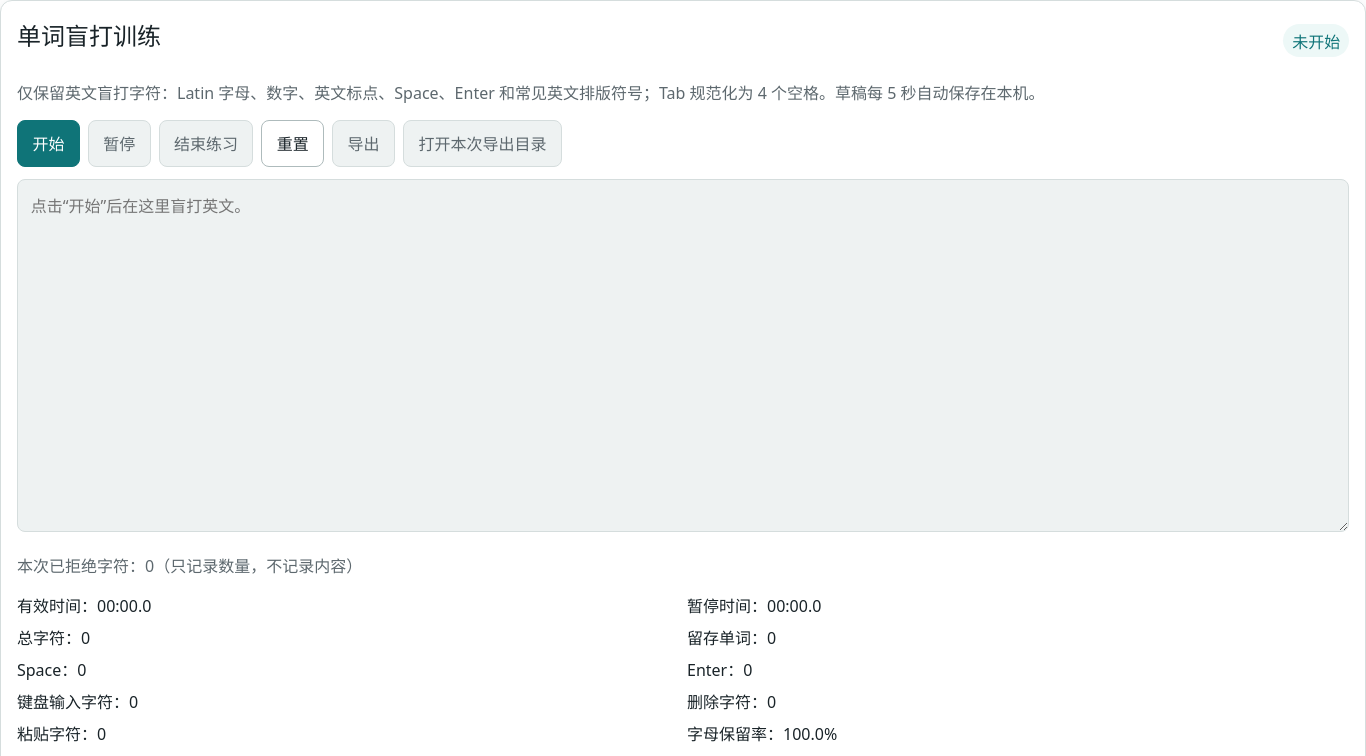
Scenario: typing practice UI › preserves native history input semantics without inflating typing or deletion counters
This screenshot has width=1366, height=756.
Click the button "开始": (48, 143) [17, 120, 80, 167]
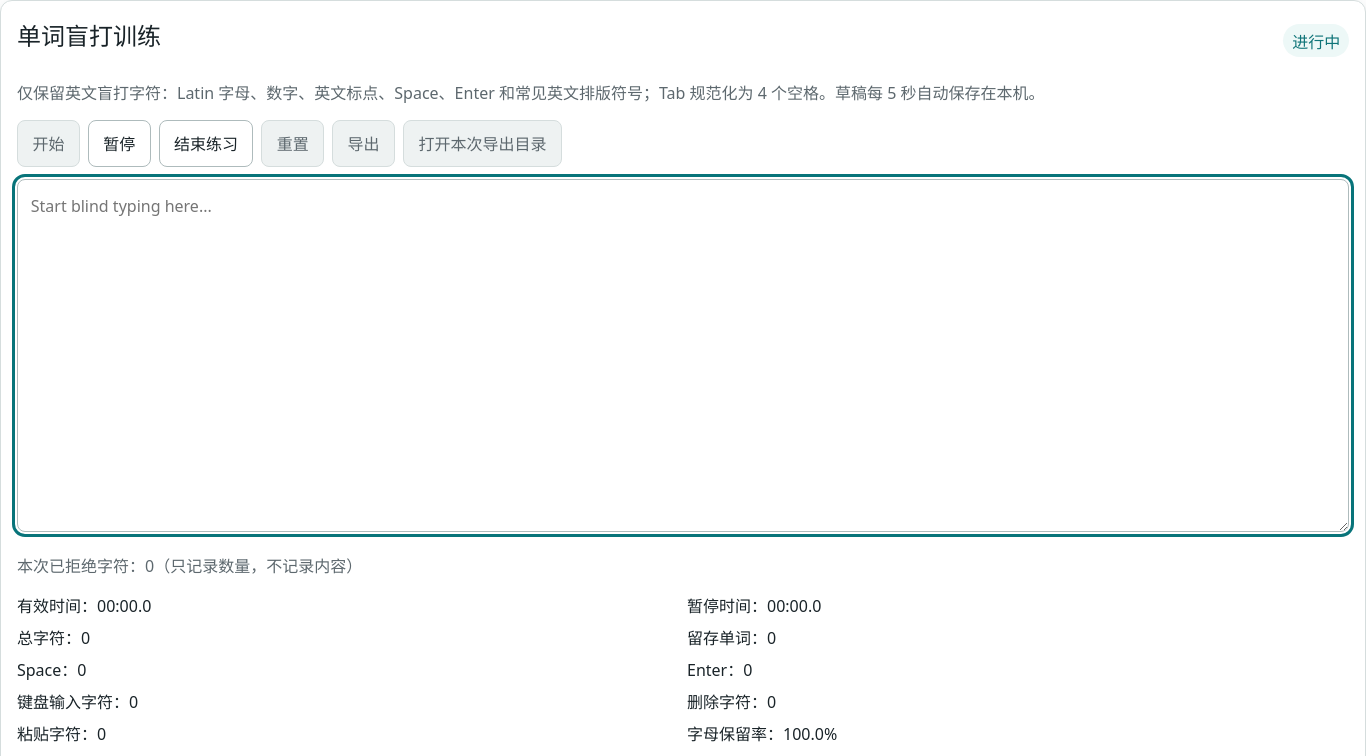
In the text box named "单词盲打输入区": (683, 355) [17, 179, 1349, 532], type "abc"
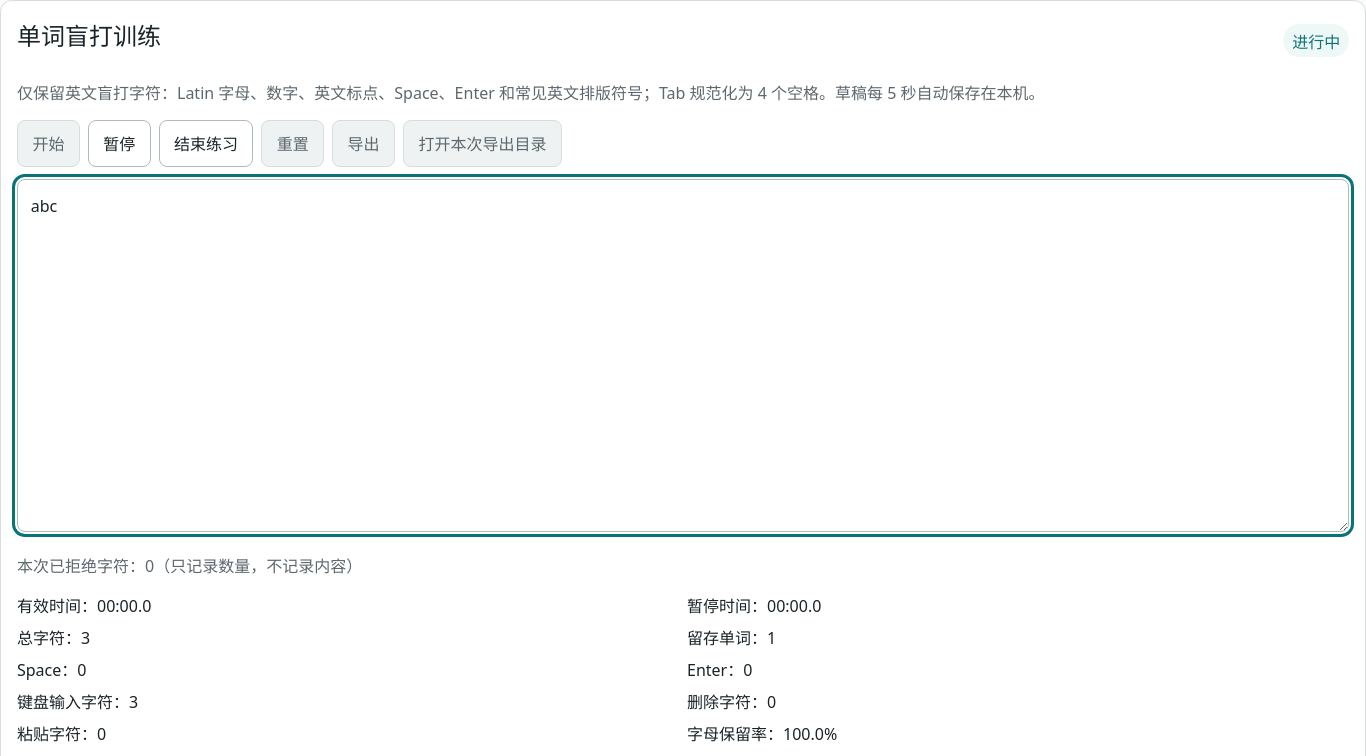
Replace the text in the text box named "单词盲打输入区" with "ab": (683, 355) [17, 179, 1349, 532]
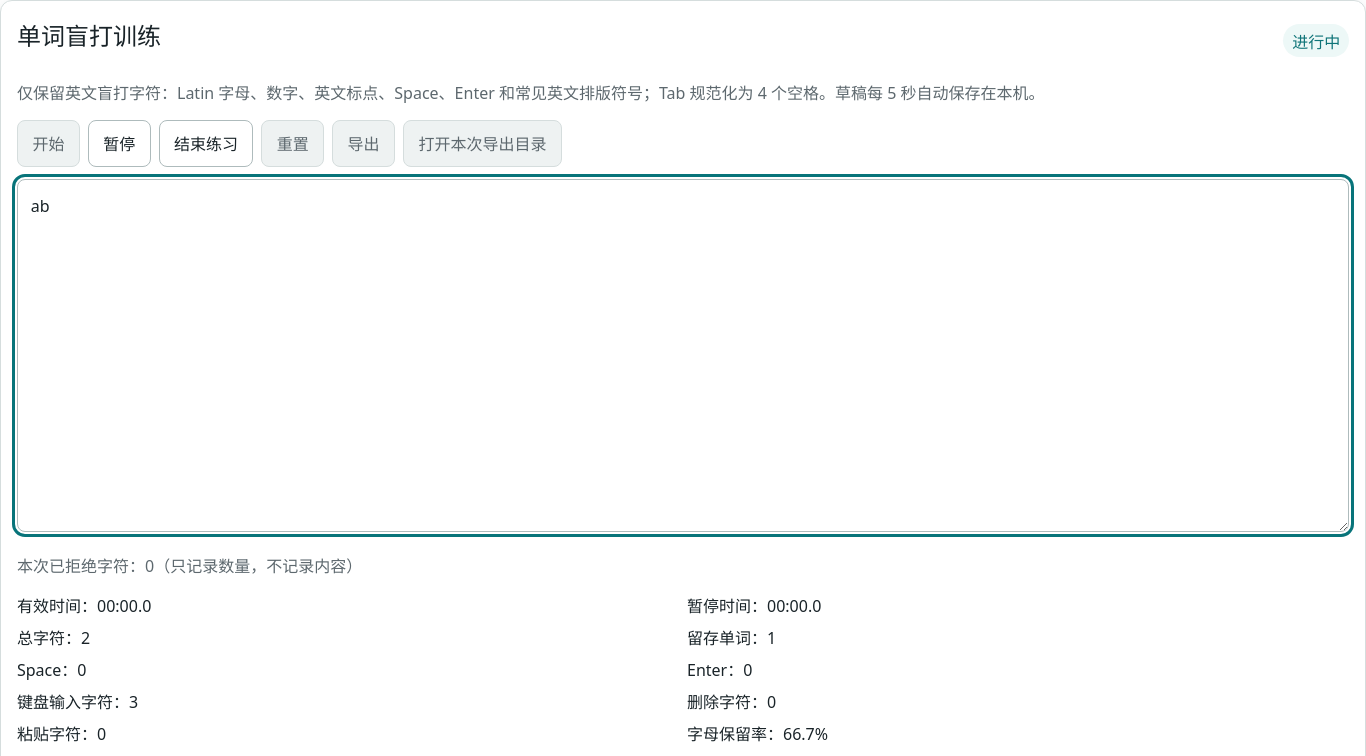
Expected: the text "删除字符：0" is shown, [687, 691, 776, 713]
Now the text "键盘输入字符：3" is shown, box [17, 691, 138, 713]
Now the text "总字符：2" is shown, box [17, 627, 90, 649]
Replace the text in the text box named "单词盲打输入区" with "abc": (683, 355) [17, 179, 1349, 532]
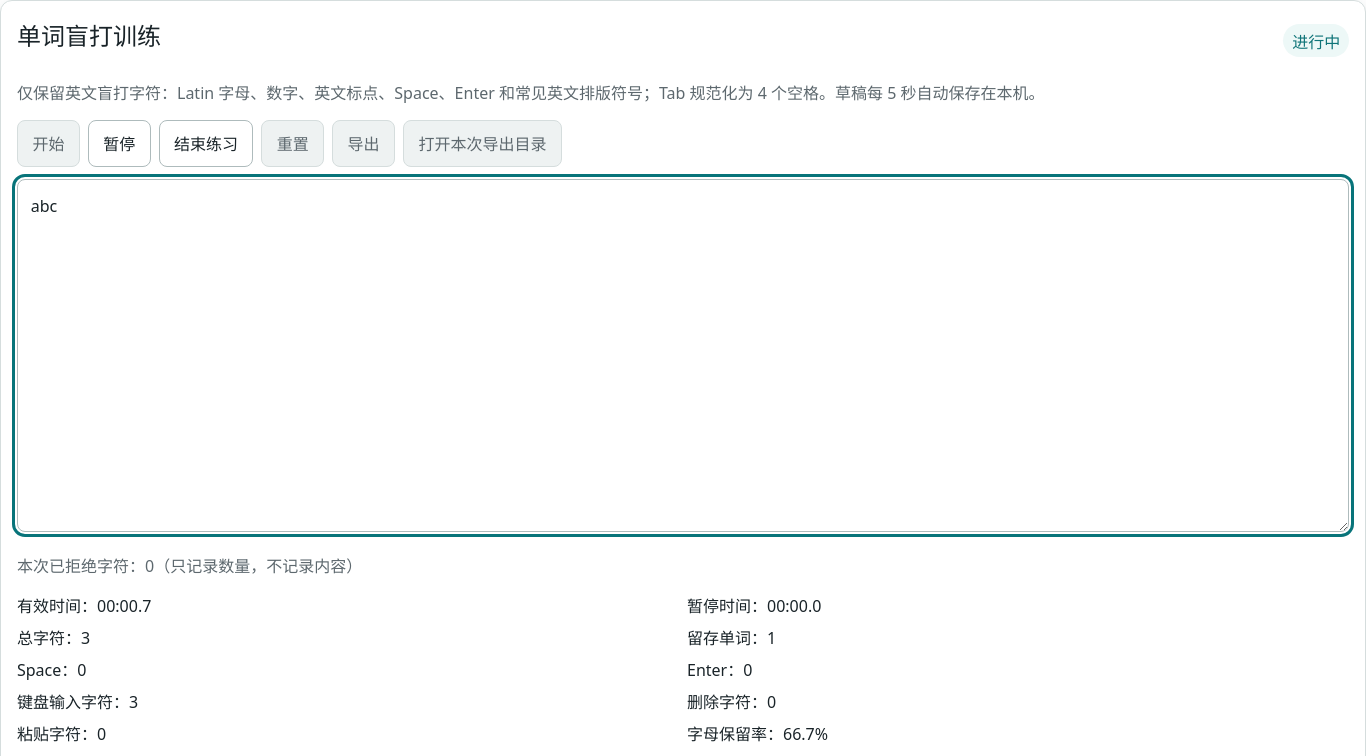
Expected: the text "删除字符：0" is shown, [687, 691, 776, 713]
Now the text "键盘输入字符：3" is shown, box [17, 691, 138, 713]
Now the text "总字符：3" is shown, box [17, 627, 90, 649]
